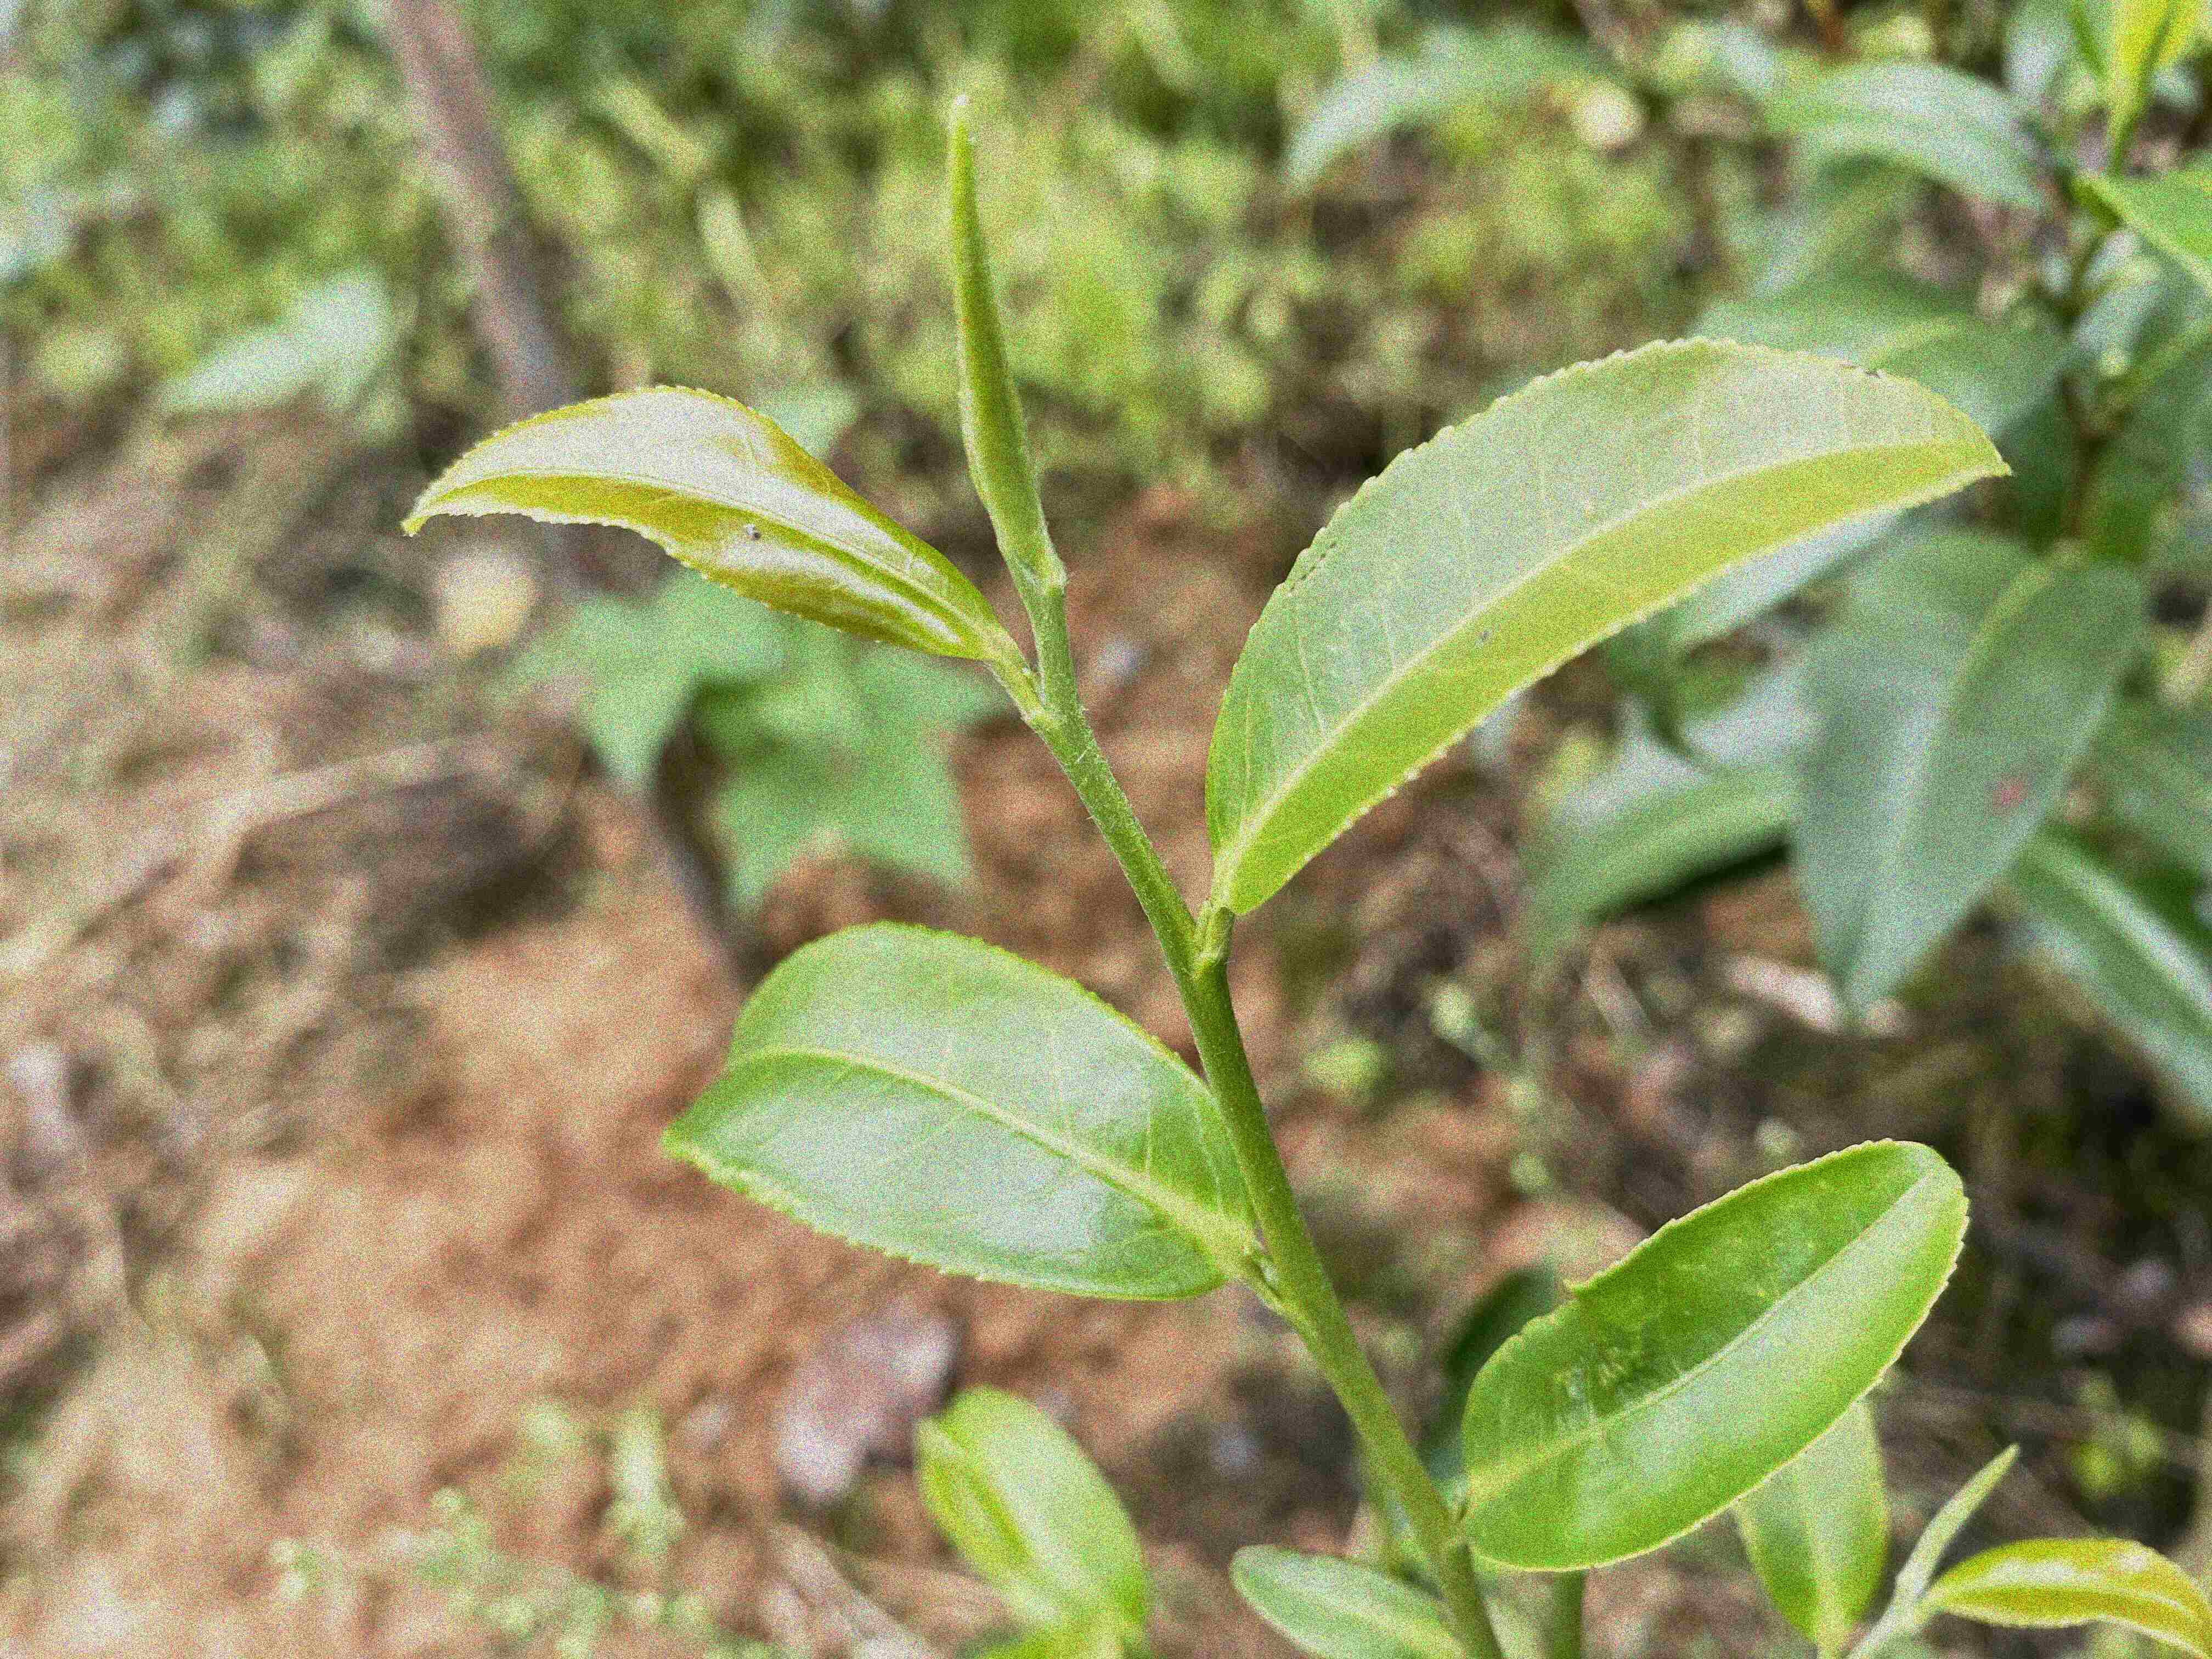healthy: (648, 918, 1252, 1304), (1456, 1133, 1975, 1568)
tanju_low: (1202, 335, 2012, 918), (397, 383, 1010, 660)
